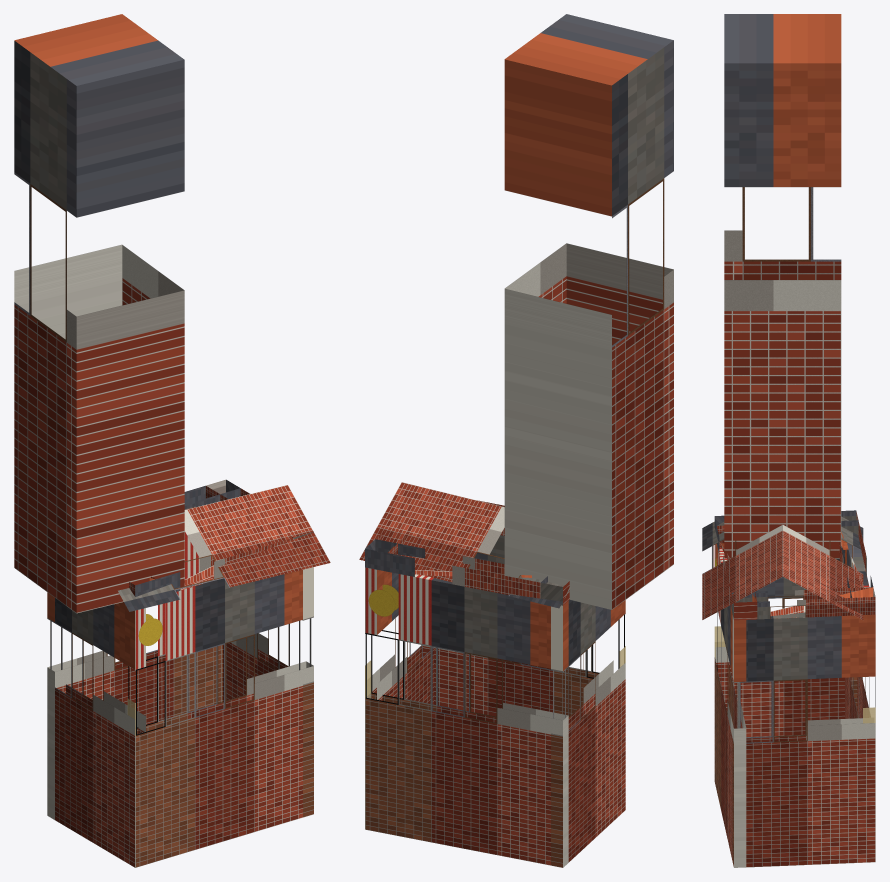
3 renders of one model, left to right at view 1: azimuth 30°, elevation 25°; view 2: azimuth 150°, elevation 25°; view 3: azimuth 270°, elevation 25°, orthographic. The views are drawn at different scales.
Parts seen in each view (by area): view 1: 238536150__chimney_0_xb, 238536150__wall_3_xb, 238536150__wall_2_xb, 238536150_roof_-1_xb, 238536150__wall_1_xb, 238536150__wall_0_xb, 238536150__cornice_3, 238536150__cornice_1; view 2: 238536150__chimney_0_xb, 238536150__wall_1_xb, 238536150__wall_2_xb, 238536150_roof_1_xb, 238536150__wall_3_xb, 238536150__cornice_1, 238536150__wall_0_xb; view 3: 238536150__chimney_0_xb, 238536150__wall_0_xb, 238536150__wall_2_xb, 238536150__wall_3_xb, 238536150_roof_-1_xb, 238536150_roof_1_xb, 238536150__cornice_0, 238536150__wall_1_xb, 238536150__cornice_3, 238536150__cornice_1, 238536150__cornice_2.
Boxes of the visible parts, <box> form: 238536150__chimney_0_xb: <box>14,14,184,613</box>; 238536150__wall_3_xb: <box>127,569,313,867</box>; 238536150__wall_2_xb: <box>47,598,145,867</box>; 238536150_roof_-1_xb: <box>118,485,330,611</box>; 238536150__wall_1_xb: <box>47,531,222,819</box>; 238536150__wall_0_xb: <box>223,567,313,817</box>; 238536150__cornice_3: <box>135,538,293,596</box>; 238536150__cornice_1: <box>184,479,240,509</box>; 238536150__chimney_0_xb: <box>504,14,673,609</box>; 238536150__wall_1_xb: <box>365,567,568,867</box>; 238536150__wall_2_xb: <box>551,600,625,867</box>; 238536150_roof_1_xb: <box>359,482,570,608</box>; 238536150__wall_3_xb: <box>422,535,625,716</box>; 238536150__cornice_1: <box>365,539,569,605</box>; 238536150__wall_0_xb: <box>365,567,433,704</box>; 238536150__chimney_0_xb: <box>724,14,841,558</box>; 238536150__wall_0_xb: <box>732,612,875,867</box>; 238536150__wall_2_xb: <box>714,543,857,737</box>; 238536150__wall_3_xb: <box>714,548,746,867</box>; 238536150_roof_-1_xb: <box>702,521,782,619</box>; 238536150_roof_1_xb: <box>783,517,863,619</box>; 238536150__cornice_0: <box>731,587,875,619</box>; 238536150__wall_1_xb: <box>845,543,875,723</box>; 238536150__cornice_3: <box>714,515,757,620</box>; 238536150__cornice_1: <box>839,511,873,597</box>; 238536150__cornice_2: <box>717,510,858,543</box>.
Size of the model in its own units: 0.3369 by 1.05 by 0.2219.
1 material, 1 textured.
